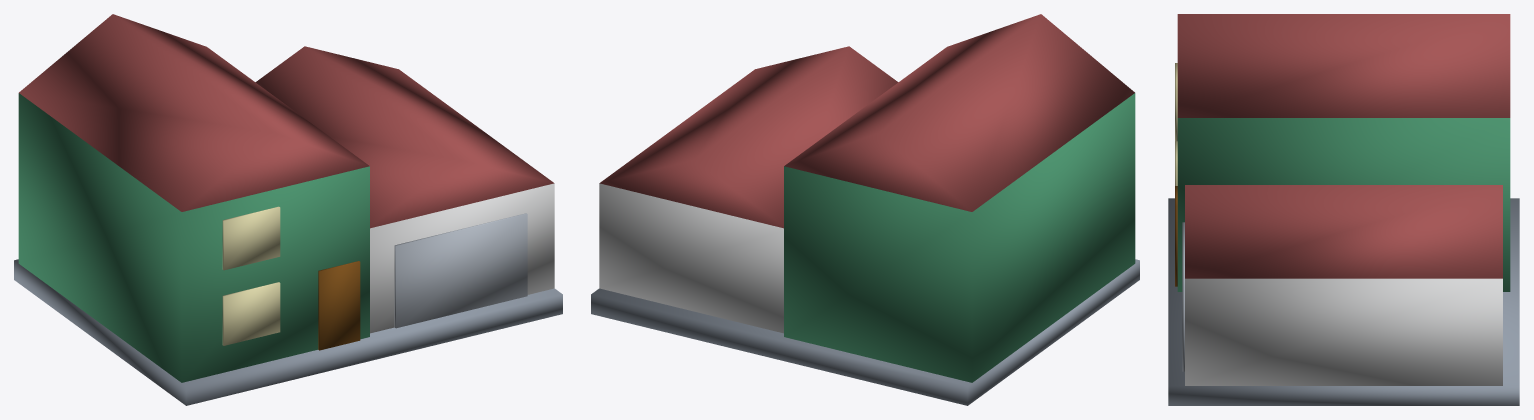
Rendered from split-level-house.glb.
The picture shows the model from 3 angles, left to right: view 1: azimuth 30°, elevation 25°; view 2: azimuth 150°, elevation 25°; view 3: azimuth 270°, elevation 25°; orthographic projection. The views are drawn at different scales.
Visible parts, largest first — view 1: world; view 2: world; view 3: world.
Part boxes in pixels (x1,y1,x2,y2): world: [14, 14, 562, 405]; world: [591, 14, 1139, 405]; world: [1168, 14, 1519, 405].
Bounding box in the file's own units: 12 × 7.5 × 9.5.
